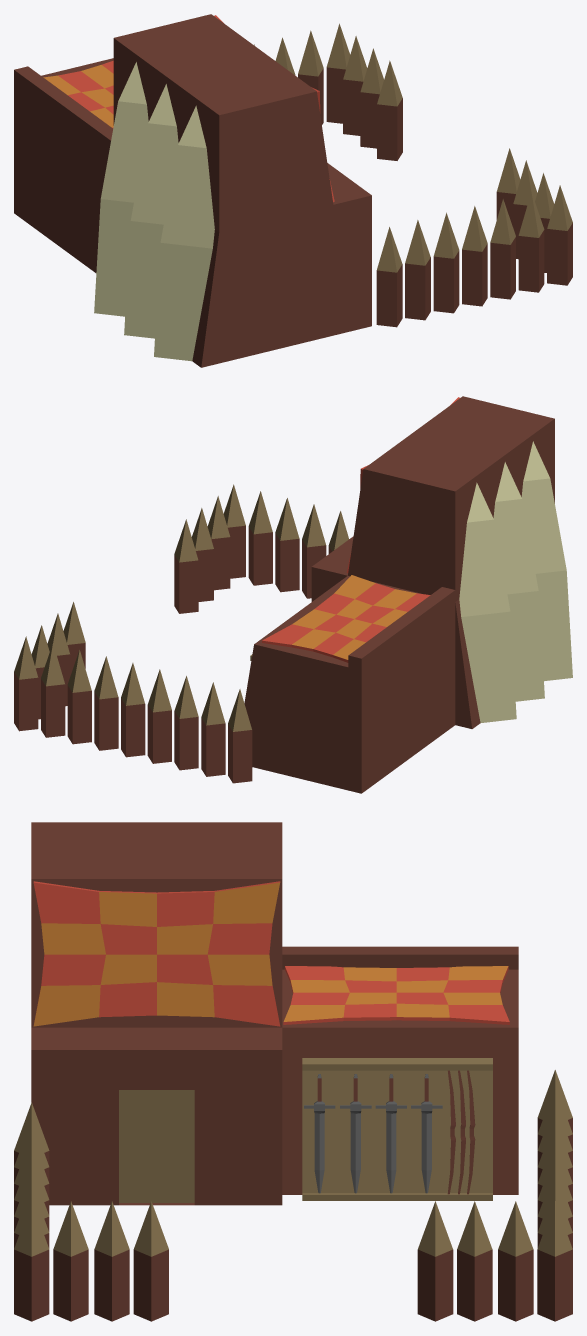
Rendered from Armoury TI.fbx.
3 renders of one model, top to bottom at view 1: azimuth 30°, elevation 25°; view 2: azimuth 150°, elevation 25°; view 3: azimuth 270°, elevation 25°, orthographic. The views are drawn at different scales.
Parts seen in each view (by area): view 1: Armoury TI; view 2: Armoury TI; view 3: Armoury TI.
Part boxes in pixels (box(x1,y1,x2,y2)): Armoury TI: box(14, 14, 572, 367); Armoury TI: box(14, 396, 572, 793); Armoury TI: box(14, 822, 572, 1321).
Size of the model in its own units: 1471 by 882 by 1515.
